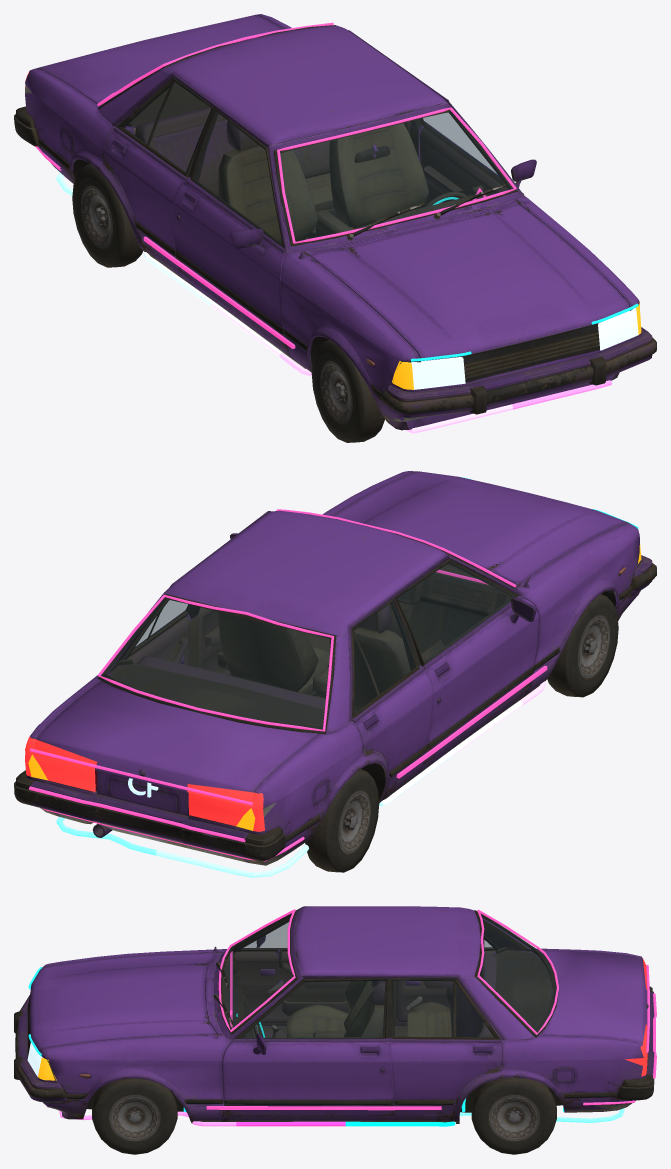
The model's file is car-high.glb.
3 renders of one model, top to bottom at view 1: azimuth 30°, elevation 25°; view 2: azimuth 150°, elevation 25°; view 3: azimuth 270°, elevation 25°, orthographic. The views are drawn at different scales.
Parts seen in each view (by area): view 1: body, glass, cockpit_static, wheel_FR, wheel_RR, glass_rear, neon_body, neon_edges, neon_side, neon_rear; view 2: body, glass_rear, cockpit_static, glass, wheel_RR, wheel_FR, neon_rear, neon_body, neon_side, neon_rear_bar, neon_edges; view 3: body, glass, glass_rear, cockpit_static, wheel_RL, wheel_FL, neon_body, neon_rear, neon_side, neon_edges.
Boxes of the visible parts, x1,y1,x2,y2 form: body: [14, 14, 656, 430]; glass: [192, 111, 511, 246]; cockpit_static: [218, 123, 488, 243]; wheel_FR: [311, 339, 384, 442]; wheel_RR: [72, 164, 142, 267]; glass_rear: [110, 77, 210, 172]; neon_body: [56, 172, 611, 433]; neon_edges: [277, 107, 516, 243]; neon_side: [143, 236, 295, 348]; neon_rear: [35, 22, 333, 170]; body: [14, 471, 656, 865]; glass_rear: [101, 598, 416, 729]; cockpit_static: [218, 564, 512, 711]; glass: [398, 561, 515, 663]; wheel_RR: [305, 769, 379, 872]; wheel_FR: [547, 594, 618, 697]; neon_rear: [30, 594, 333, 861]; neon_body: [56, 681, 545, 877]; neon_side: [396, 665, 547, 778]; neon_rear_bar: [29, 786, 245, 842]; neon_edges: [276, 509, 516, 587]; body: [14, 906, 654, 1123]; glass: [222, 914, 385, 1038]; glass_rear: [393, 914, 555, 1036]; cockpit_static: [213, 953, 451, 1037]; wheel_RL: [471, 1077, 556, 1154]; wheel_FL: [92, 1078, 177, 1154]; neon_body: [59, 1108, 624, 1126]; neon_rear: [477, 909, 649, 1105]; neon_side: [206, 1106, 441, 1110]; neon_edges: [218, 909, 295, 1032].
Size of the model in its own units: 2.62 by 1.79 by 6.02.
24 materials, 3 textured.
